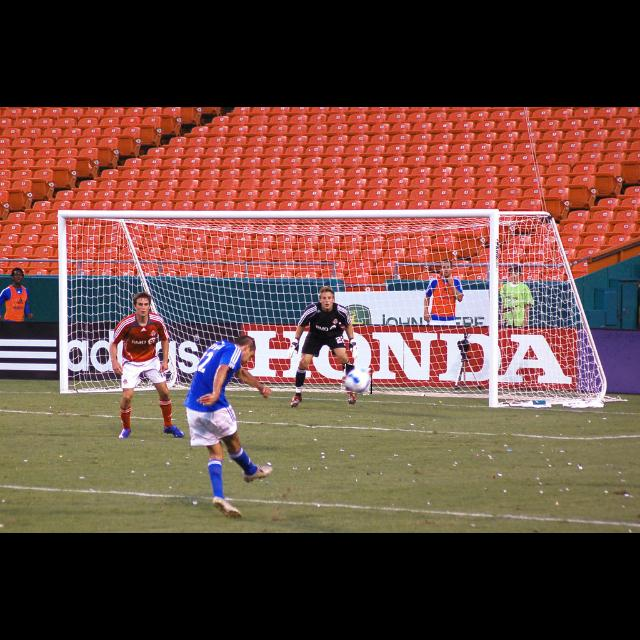Football: (342, 366, 372, 394)
